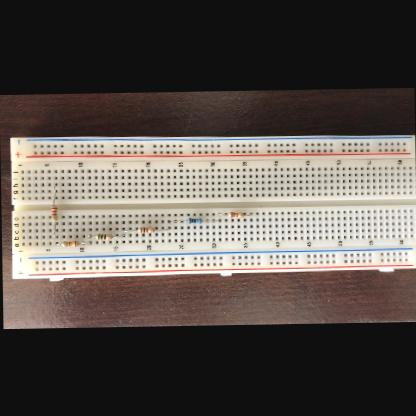breadboard: (7, 131, 416, 282)
resistor: (60, 240, 78, 246), (50, 204, 56, 221), (138, 226, 154, 232), (95, 233, 110, 239), (226, 212, 242, 217), (186, 218, 200, 223)
wire: (51, 184, 56, 204), (53, 221, 56, 238), (154, 228, 169, 231), (122, 228, 137, 231), (111, 234, 124, 237), (168, 219, 186, 221), (202, 219, 218, 221), (87, 234, 94, 238), (79, 242, 90, 244), (243, 214, 251, 216), (54, 242, 61, 244), (218, 213, 226, 214)
